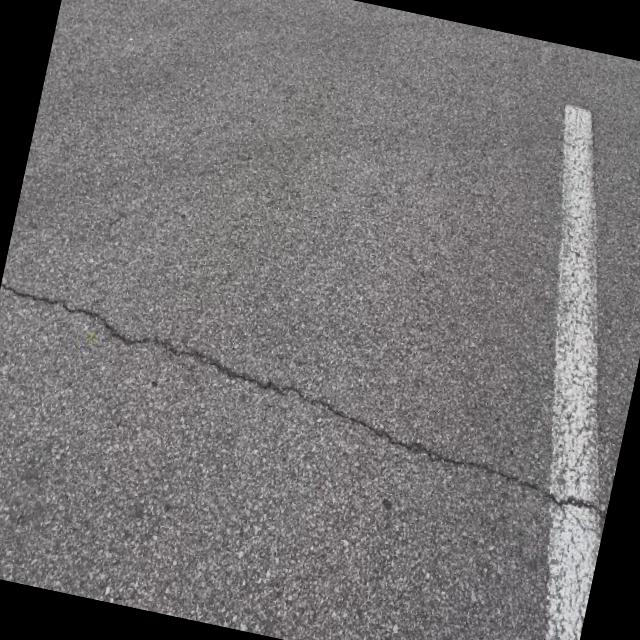Retak-Melintang: (2, 279, 602, 509)
